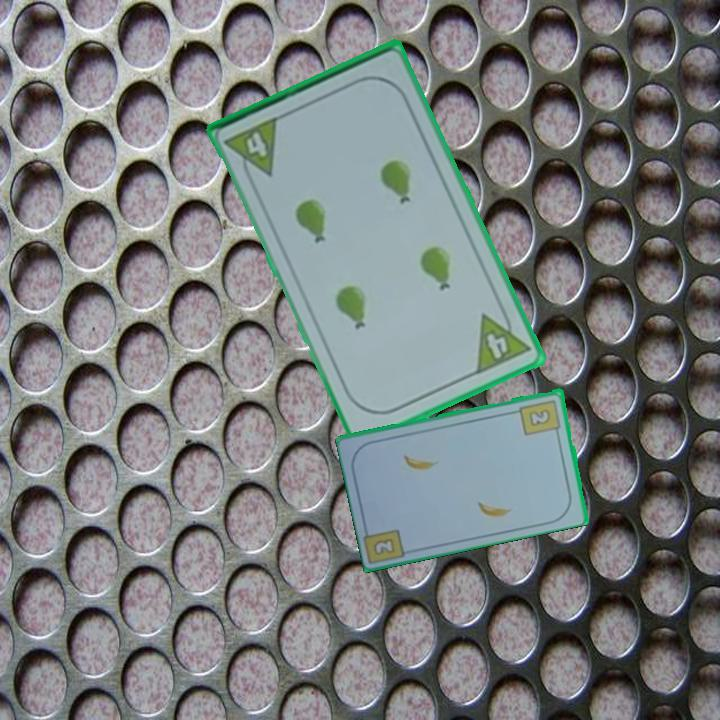2b: (517, 396, 564, 438), (370, 534, 398, 558)
4p: (472, 302, 533, 378), (221, 113, 282, 186)
